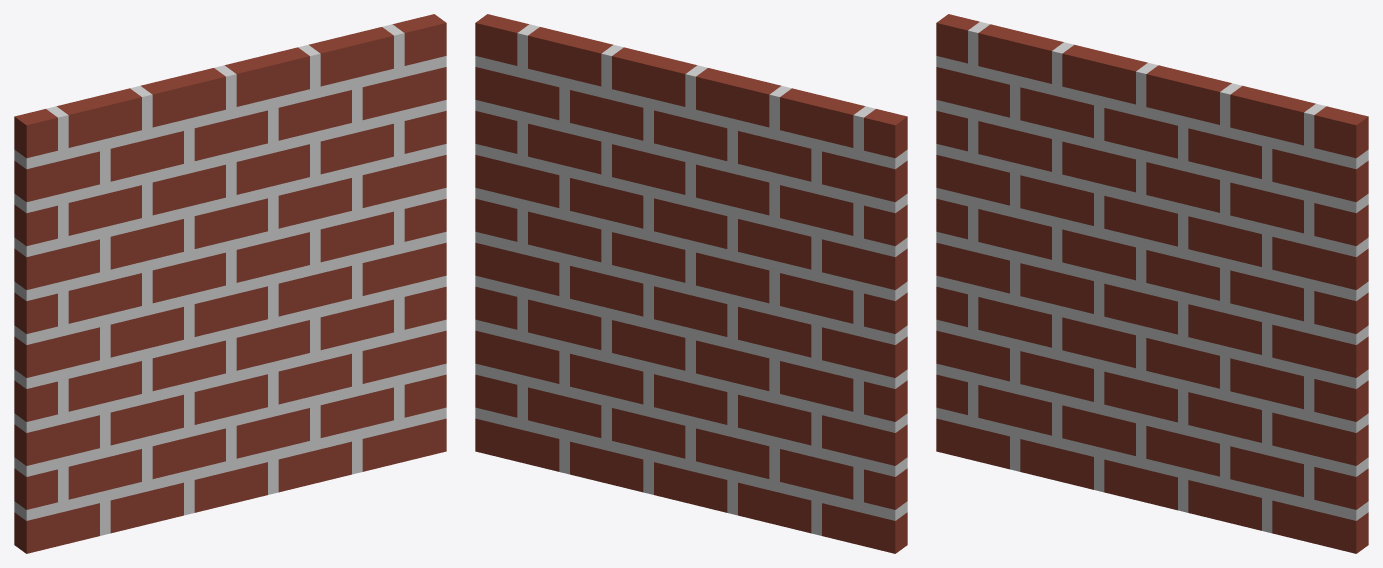
File: ConstructionMaterials-51.obj
3 renders of one model, left to right at view 1: azimuth 30°, elevation 25°; view 2: azimuth 150°, elevation 25°; view 3: azimuth 330°, elevation 25°, orthographic.
Size of the model in its own units: 4 by 3.9 by 0.2.
1 material, 1 textured.
